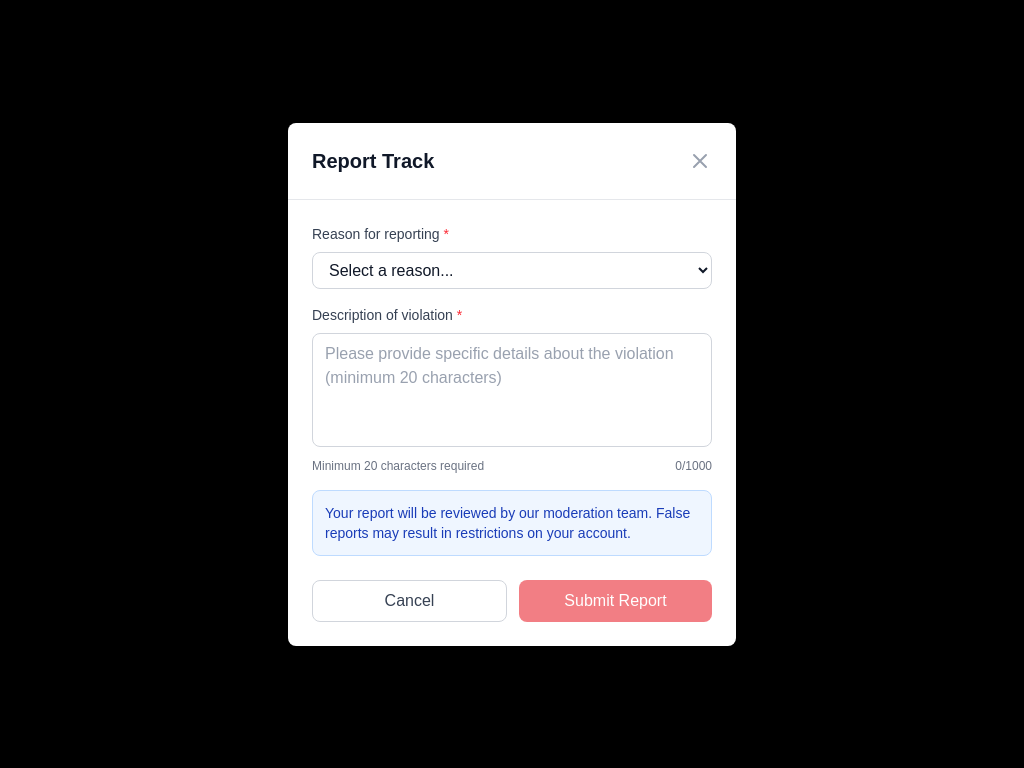
Test: ReportModal - Complete Evidence Flows Integration › Validation Error Flows › should prevent submission with description under 20 characters
This screenshot has width=1024, height=768.
Note: Select reason
Step 1. Select "Spam or Misleading Content" in the dropdown labelled "Reason for reporting *" → point(512, 270), box [312, 252, 712, 288]
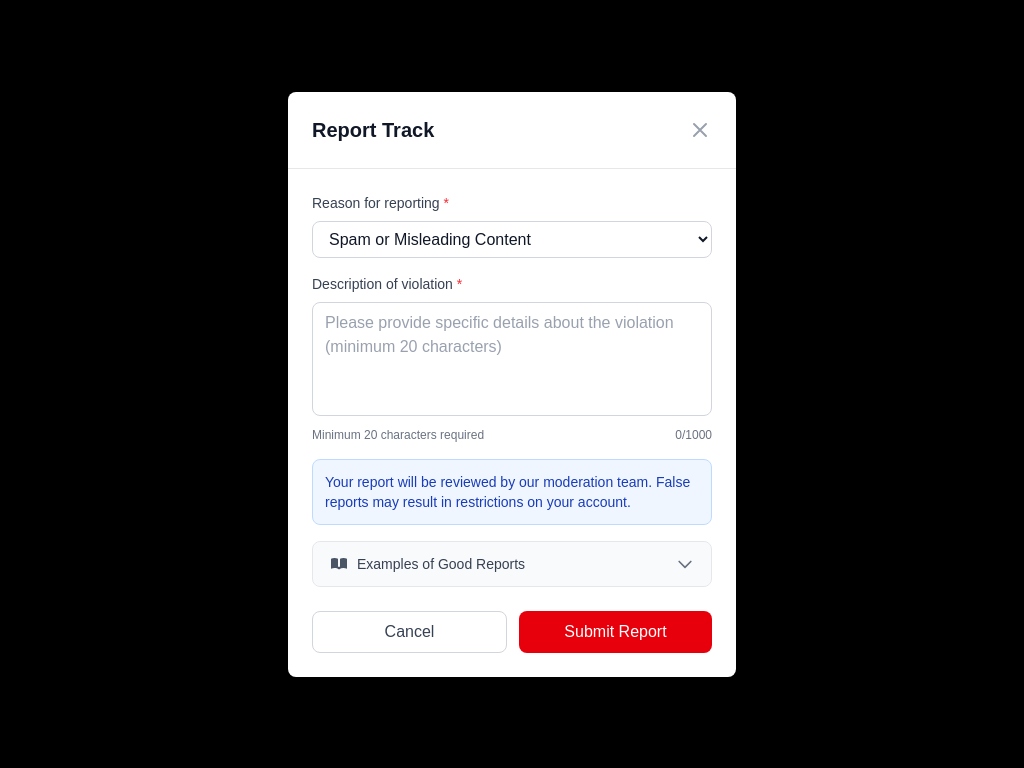
Note: Enter short description
Step 2. Replace the text in the text box labelled "Description of violation *" with "Too short" → point(512, 358), box [312, 302, 712, 416]
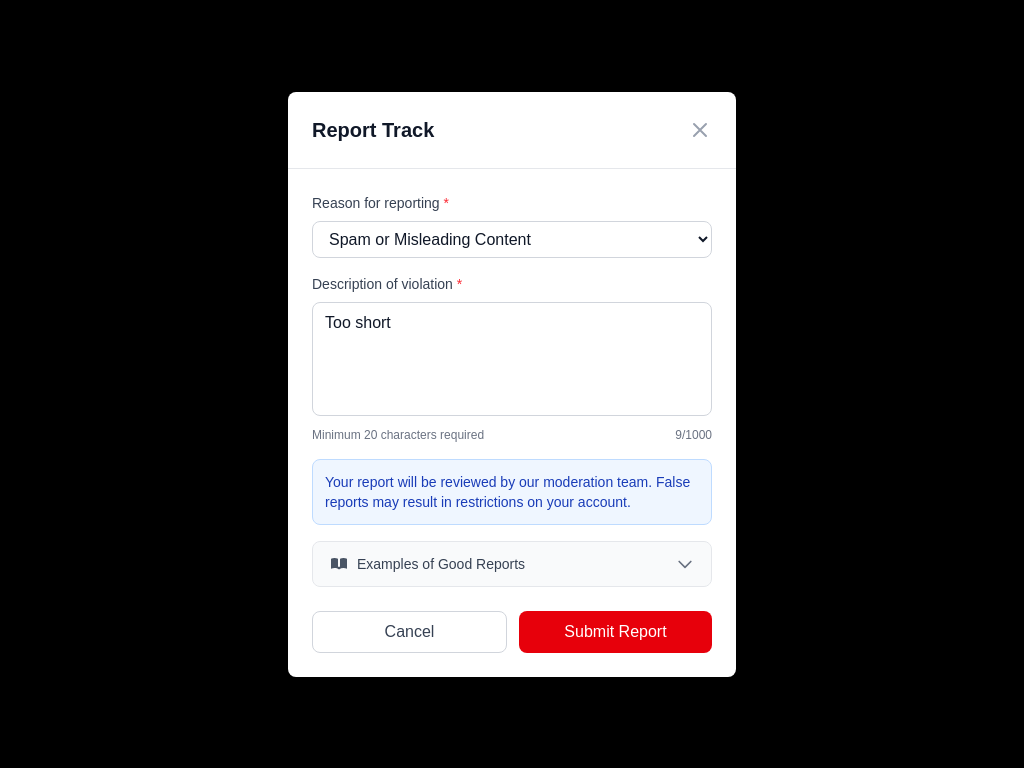
Note: Try to submit
Step 3. Click the button "Submit Report" → point(616, 632), box [519, 610, 712, 652]
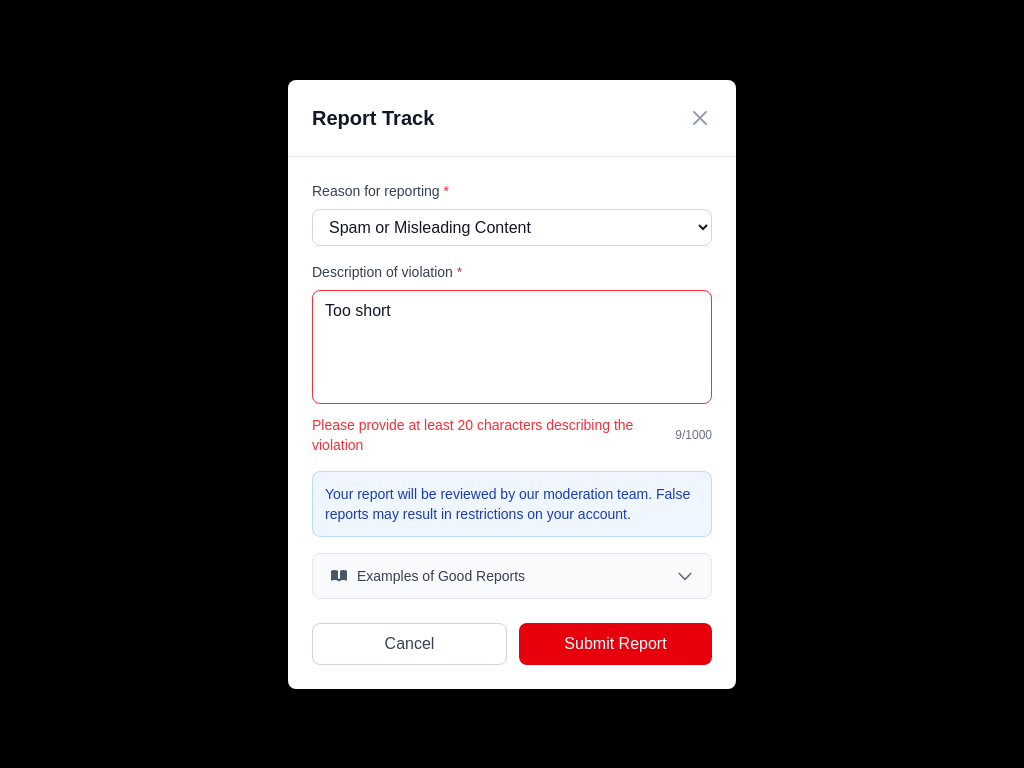
Expected: the text "Please provide at least 20 characters" is shown, [312, 416, 633, 452]
